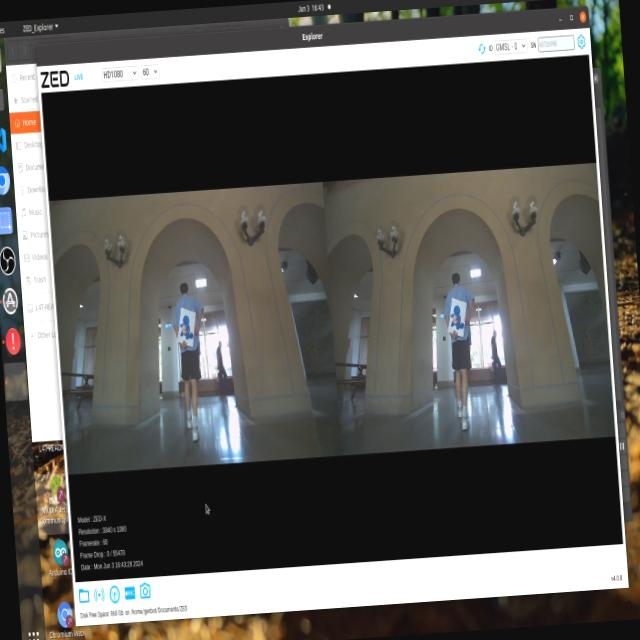blue: (176, 309, 202, 343), (447, 300, 468, 338)
